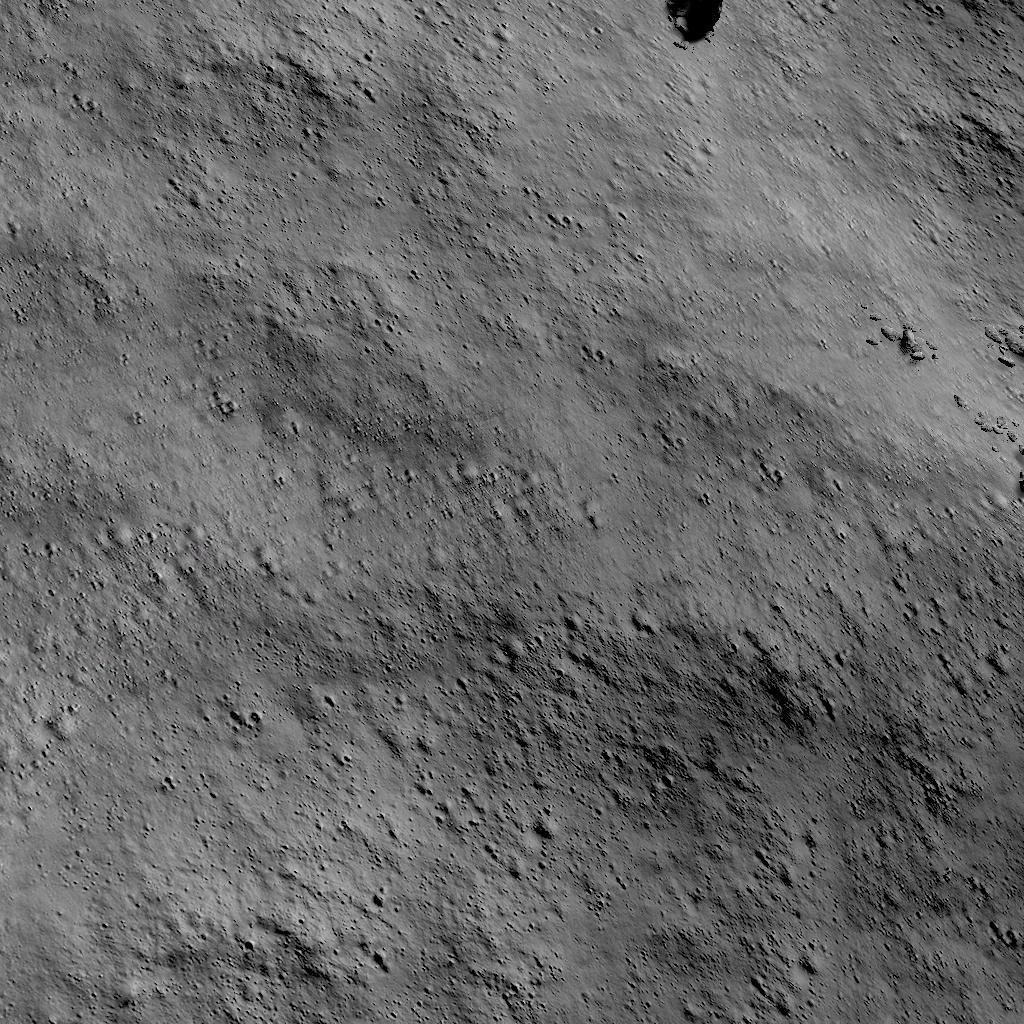Plan surface: (0, 62, 852, 1024)
